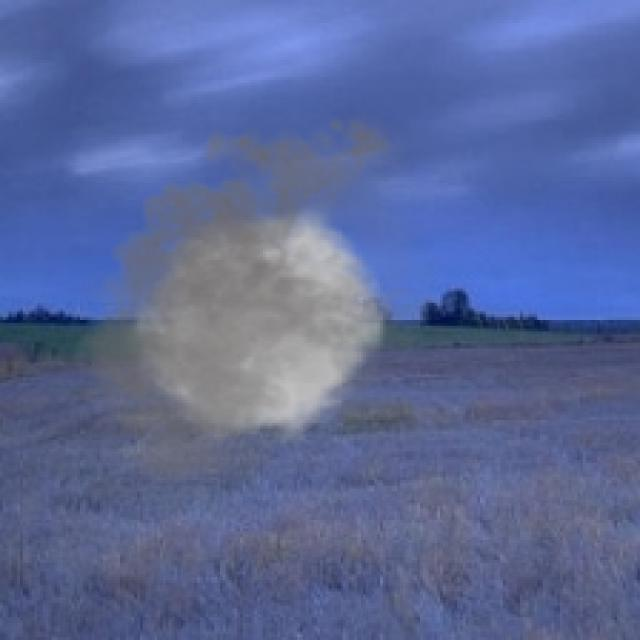smoke: (60, 106, 457, 497)
